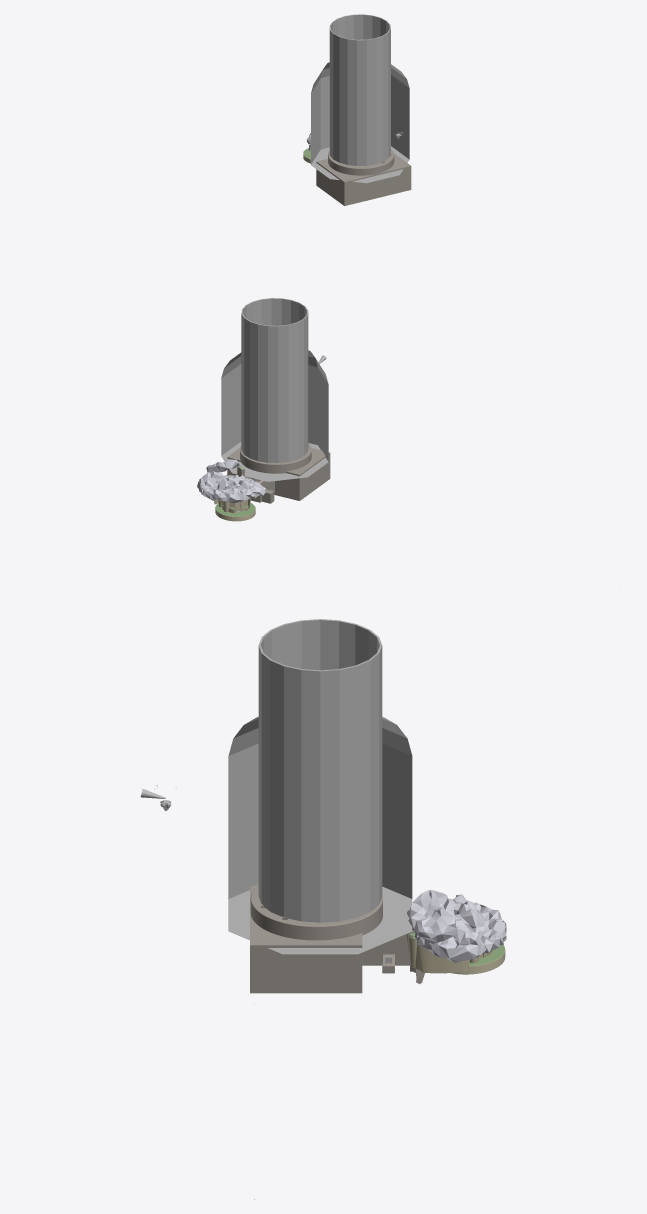
File: BstBaked.glb
3 views of the same model, one above another, from view 1: azimuth 30°, elevation 25°; view 2: azimuth 150°, elevation 25°; view 3: azimuth 270°, elevation 25° (orthographic). The views are drawn at different scales.
Visible parts, largest first — view 1: BstBaked_Tube, BstBaked_NightWall_02, BstBaked_terrain; view 2: BstBaked_Tube, BstBaked_NightWall_02, BstBaked_terrain, BstBaked_cloud; view 3: BstBaked_Tube, BstBaked_NightWall_02, BstBaked_terrain, BstBaked_cloud.
Boxes of the visible parts, x1,y1,x2,y2 form: BstBaked_Tube: (329,14,390,165); BstBaked_NightWall_02: (311,62,409,183); BstBaked_terrain: (303,148,411,205); BstBaked_Tube: (241,298,308,462); BstBaked_NightWall_02: (221,350,328,481); BstBaked_terrain: (214,443,330,521); BstBaked_cloud: (197,459,266,503); BstBaked_Tube: (258,619,382,922); BstBaked_NightWall_02: (228,717,412,954); BstBaked_terrain: (250,884,505,993); BstBaked_cloud: (407,890,506,962).
Size of what is drawn, in the model's own units: 1586 by 427 by 428.
